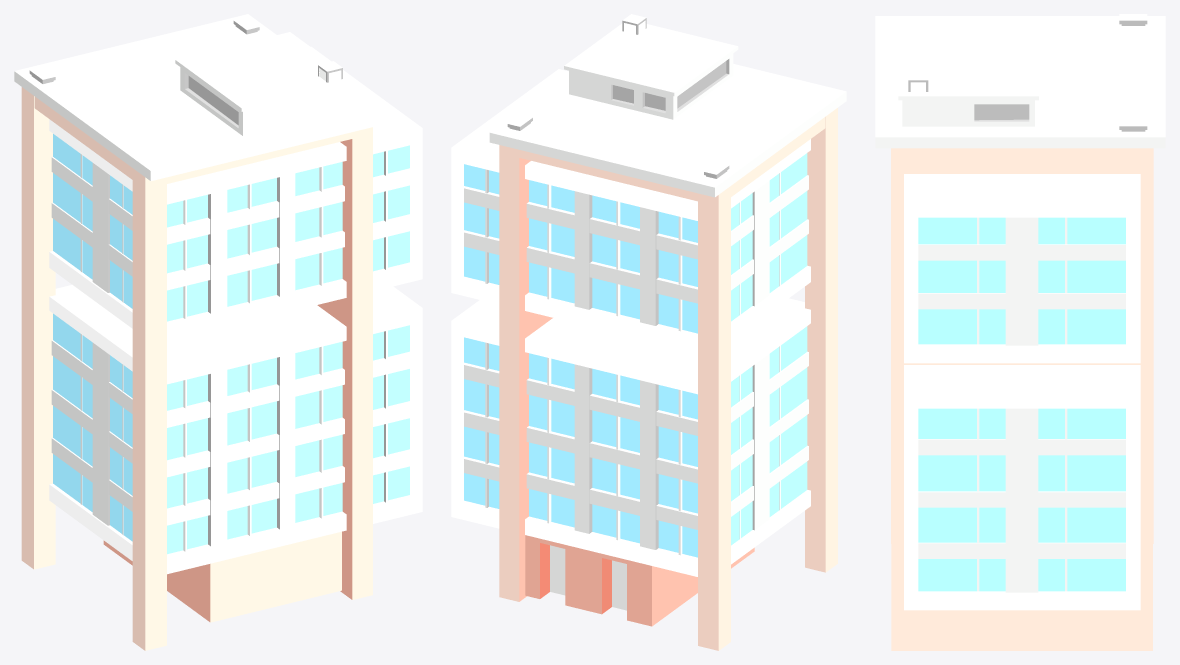
Rendered from tile_for_home_2x2.002 (5).glb.
3 renders of one model, left to right at view 1: azimuth 30°, elevation 25°; view 2: azimuth 150°, elevation 25°; view 3: azimuth 270°, elevation 25°, orthographic. The views are drawn at different scales.
Parts seen in each view (by area): view 1: apartment 1.005; view 2: apartment 1.005; view 3: apartment 1.005.
Boxes of the visible parts, x1,y1,x2,y2 form: apartment 1.005: (14,14,422,650); apartment 1.005: (451,14,846,650); apartment 1.005: (875,14,1165,650).
Bounding box in the file's own units: 14.25 × 25.13 × 11.81.
1 material, 1 textured.
